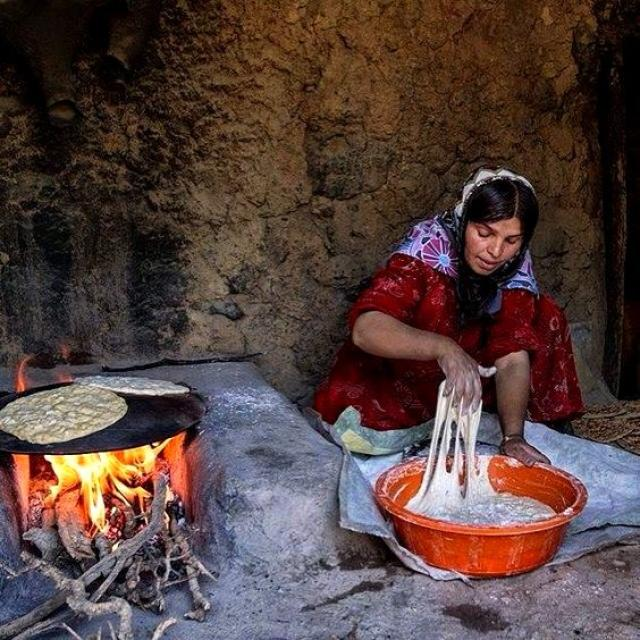fire: (42, 437, 171, 531)
